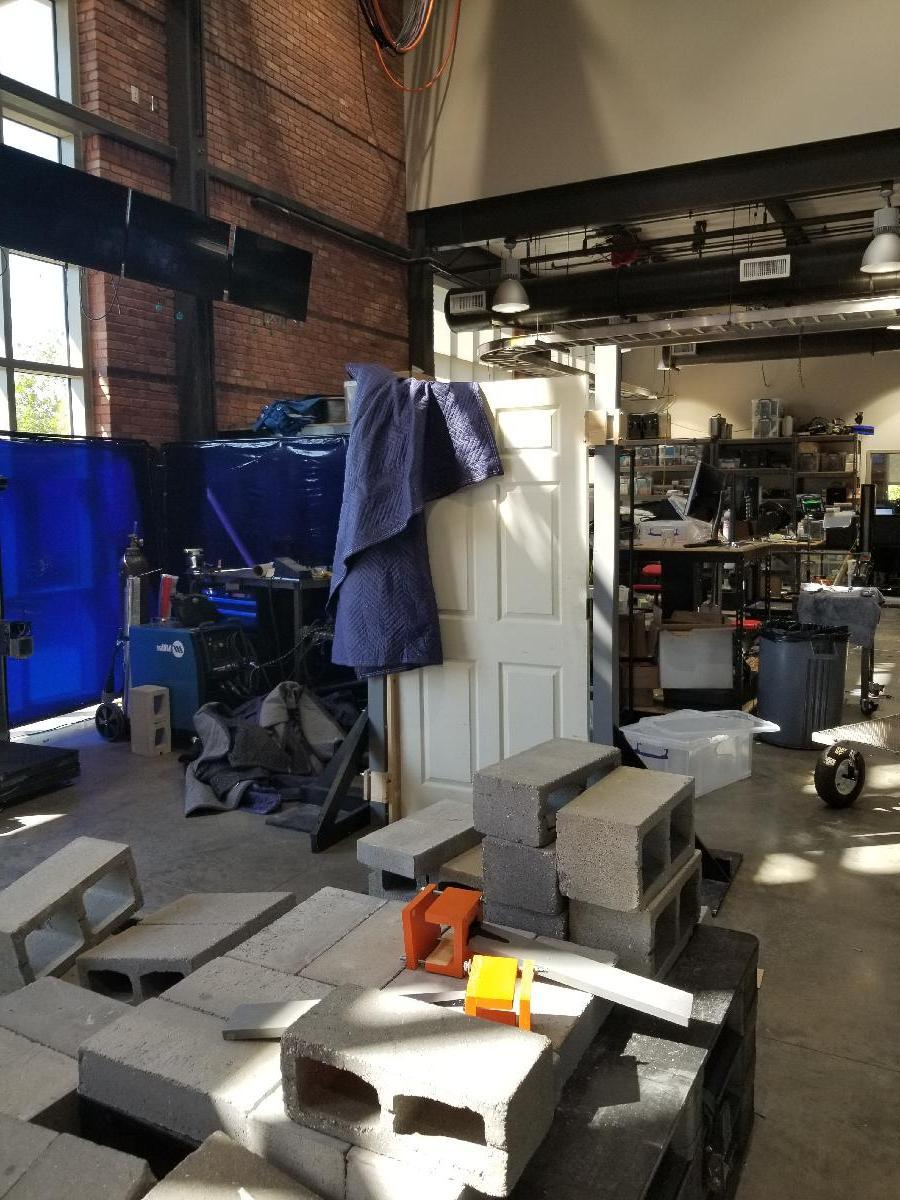door: (386, 368, 592, 873)
